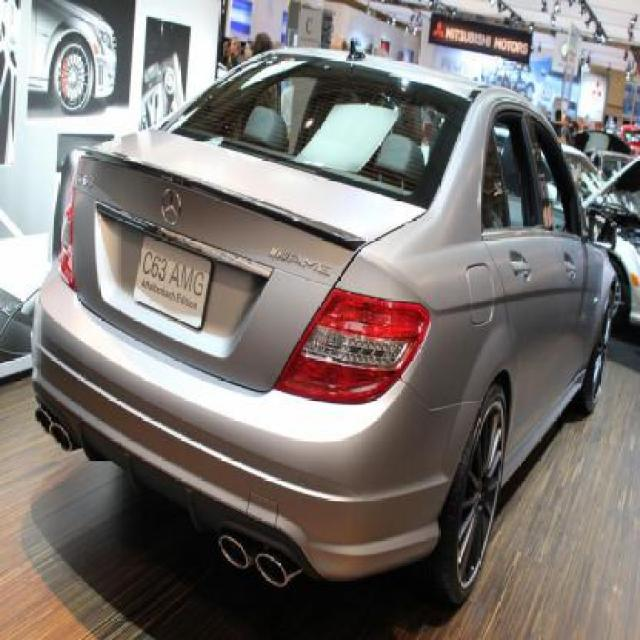License-Plates: (132, 233, 213, 329)
